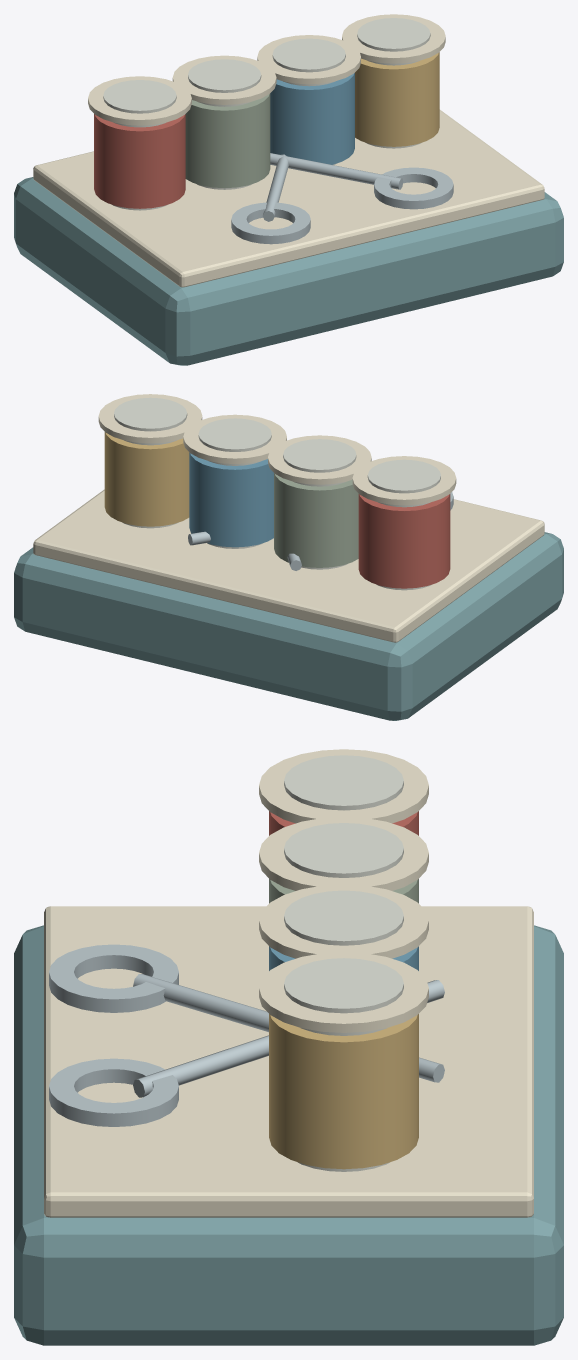
The model's file is loot_sewing_kit.glb.
3 renders of one model, top to bottom at view 1: azimuth 30°, elevation 25°; view 2: azimuth 150°, elevation 25°; view 3: azimuth 270°, elevation 25°, orthographic. The views are drawn at different scales.
Parts seen in each view (by area): view 1: loot_sewing_kit; view 2: loot_sewing_kit; view 3: loot_sewing_kit.
Part boxes in pixels (<box>): loot_sewing_kit: <box>14,14,563,365</box>; loot_sewing_kit: <box>14,394,563,720</box>; loot_sewing_kit: <box>14,749,563,1345</box>.
Bounding box in the file's own units: 0.15 × 0.069 × 0.11.
